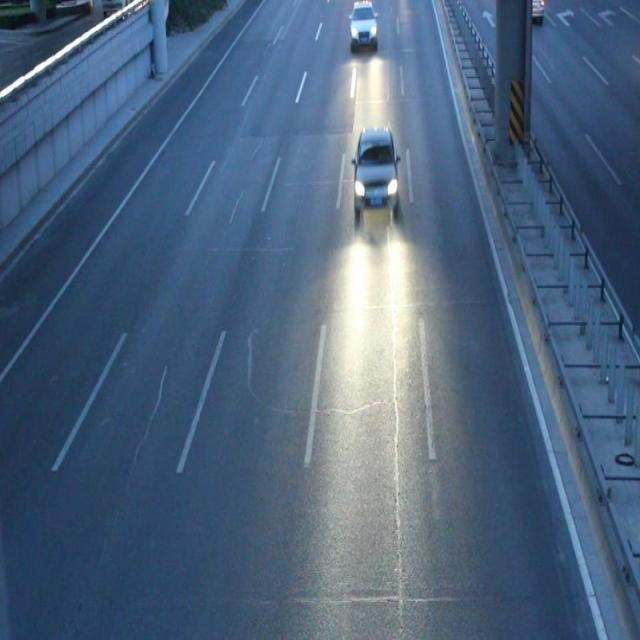car: (352, 126, 398, 216), (348, 2, 377, 48)
